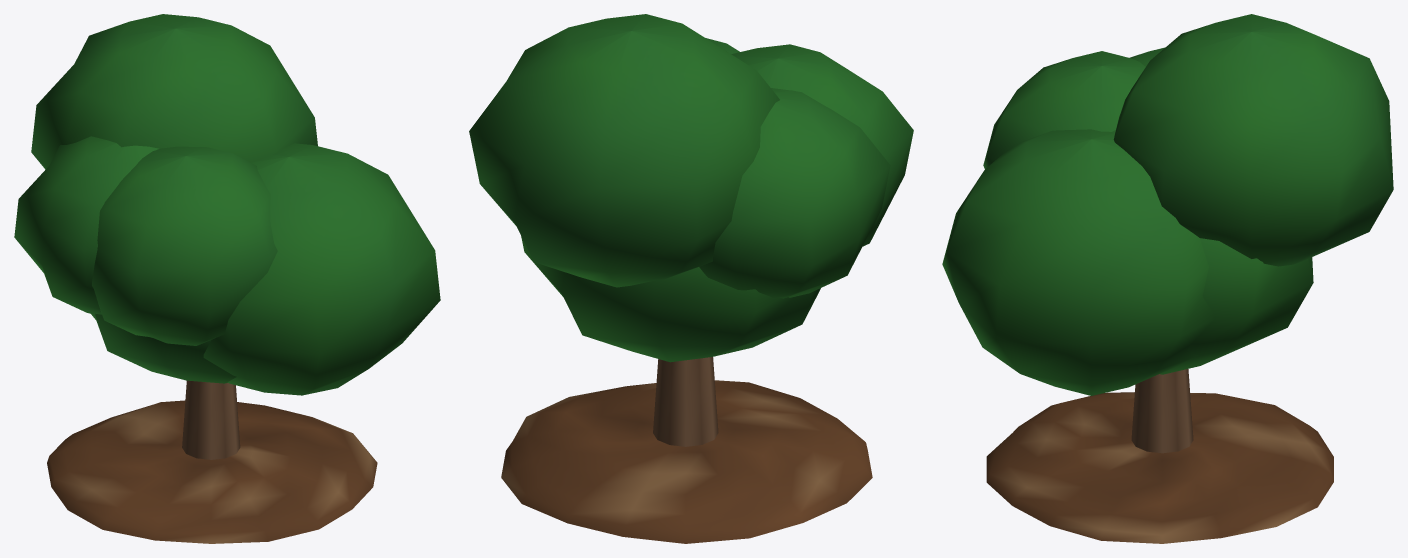
The model's file is plant-apple-2.gltf.
3 renders of one model, left to right at view 1: azimuth 30°, elevation 25°; view 2: azimuth 150°, elevation 25°; view 3: azimuth 270°, elevation 25°, orthographic. The views are drawn at different scales.
Bounding box in the file's own units: 1.44 × 1.77 × 1.64.
